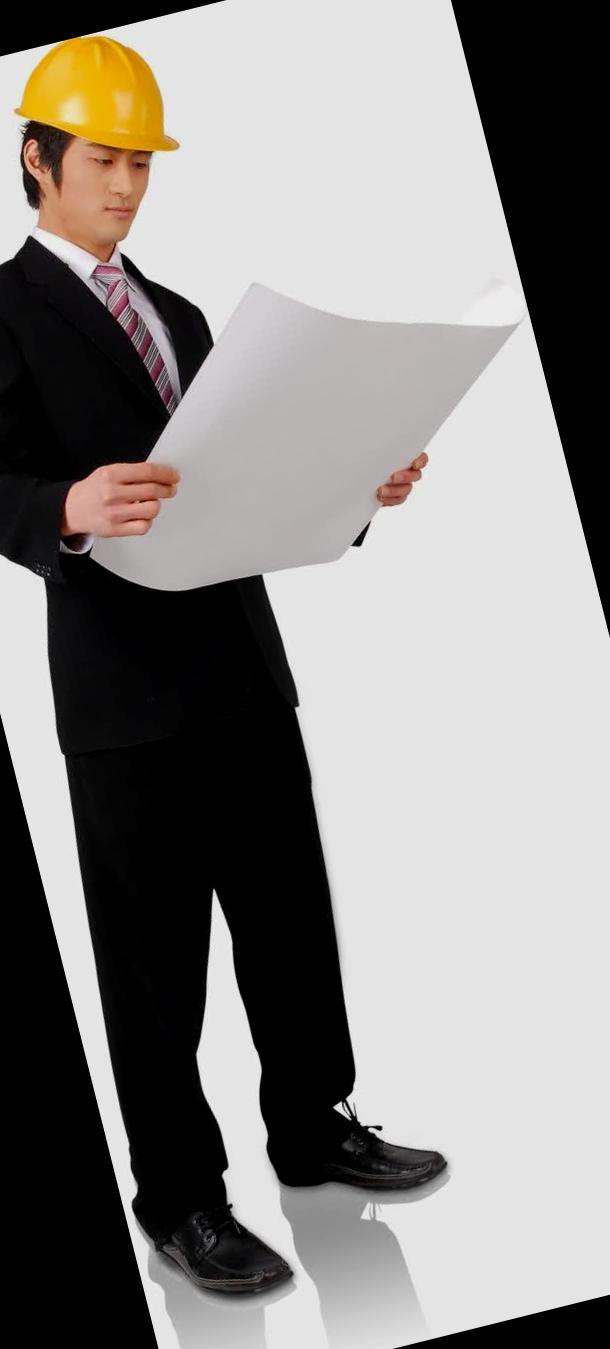helmet: (5, 21, 198, 188)
no_vest: (0, 201, 316, 693)
person: (0, 14, 479, 1332)
